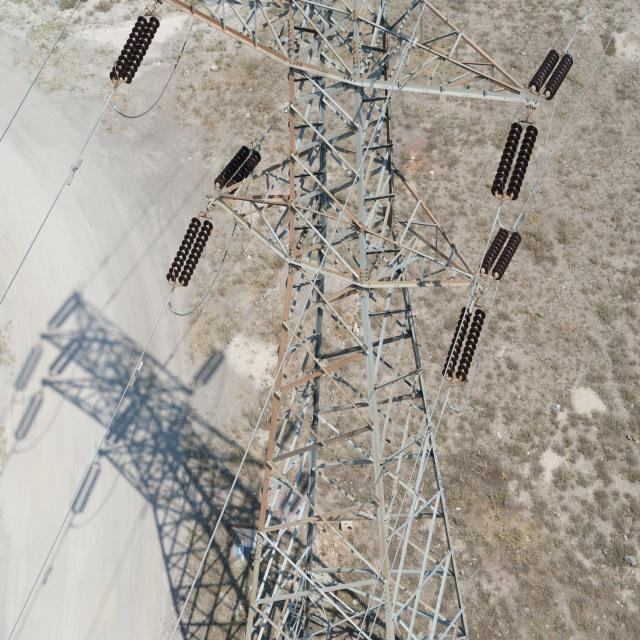sag_alt: (207, 0, 478, 640)
